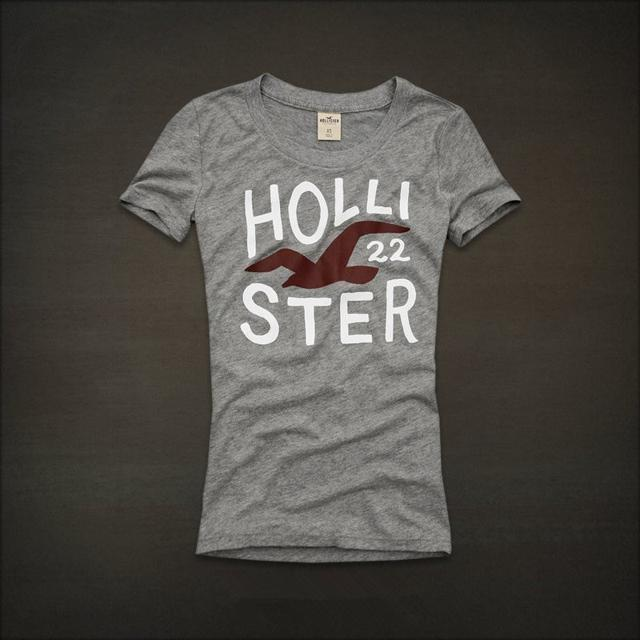Tops: (129, 76, 526, 563)
